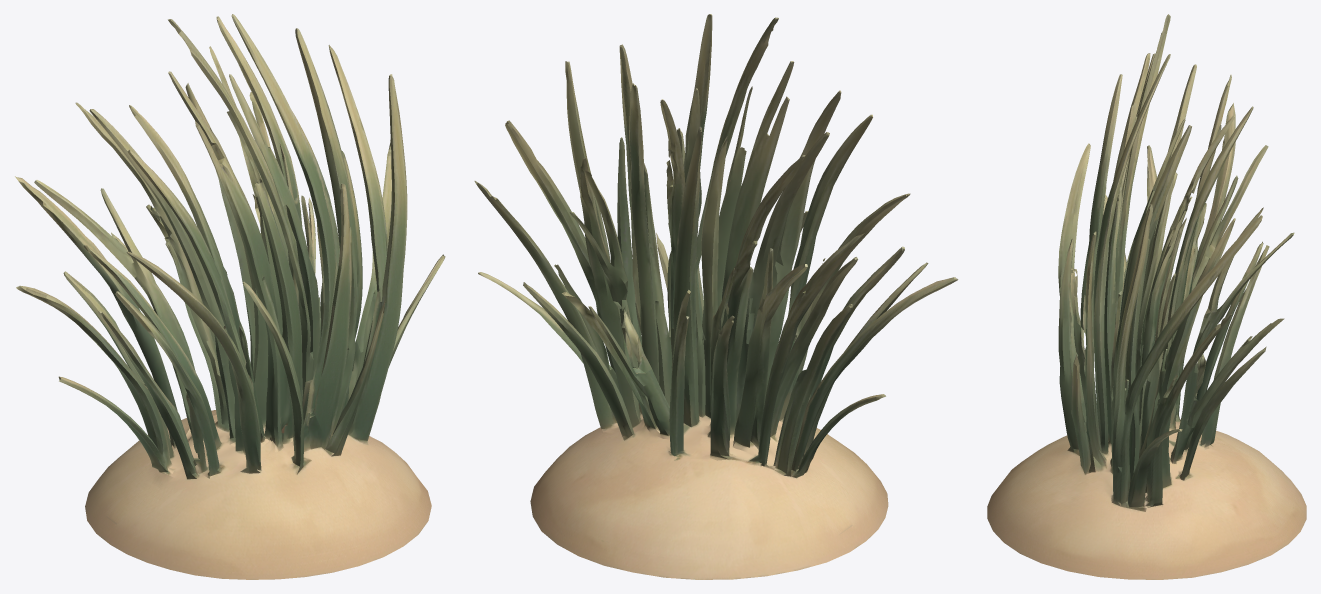
Rendered from tidewake_beach_grass_clump.glb.
3 renders of one model, left to right at view 1: azimuth 30°, elevation 25°; view 2: azimuth 150°, elevation 25°; view 3: azimuth 270°, elevation 25°, orthographic. The views are drawn at different scales.
Parts seen in each view (by area): view 1: Mesh_0; view 2: Mesh_0; view 3: Mesh_0.
Boxes of the visible parts, <box> form: Mesh_0: <box>15,14,445,579</box>; Mesh_0: <box>474,14,958,579</box>; Mesh_0: <box>987,14,1306,579</box>.
Bounding box in the file's own units: 1.77 × 1.89 × 1.18.
Materials: 1 (1 with a texture image).
